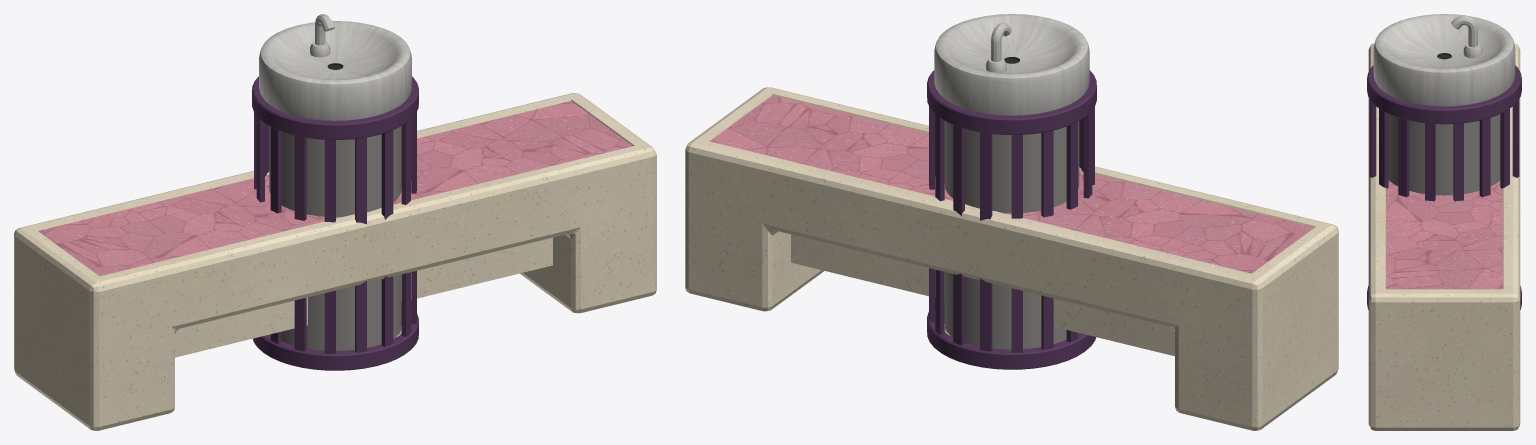
File: yy_props.glb
The picture shows the model from 3 angles, left to right: view 1: azimuth 30°, elevation 25°; view 2: azimuth 150°, elevation 25°; view 3: azimuth 270°, elevation 25°; orthographic projection. The views are drawn at different scales.
Visible parts, largest first — view 1: yy_bench, yy_bin, yy_fountain; view 2: yy_bench, yy_bin, yy_fountain; view 3: yy_bench, yy_bin, yy_fountain.
Boxes of the visible parts, bbox=[...] form: yy_bench: bbox=[14, 93, 656, 430]; yy_bin: bbox=[252, 76, 418, 370]; yy_fountain: bbox=[259, 14, 411, 337]; yy_bench: bbox=[685, 87, 1338, 430]; yy_bin: bbox=[927, 70, 1096, 369]; yy_fountain: bbox=[934, 14, 1089, 335]; yy_bench: bbox=[1368, 43, 1520, 430]; yy_bin: bbox=[1367, 65, 1521, 309]; yy_fountain: bbox=[1373, 14, 1515, 106].
Size of the model in its own units: 1.8 by 0.9505 by 0.46.
Materials: 6 (3 with a texture image).
